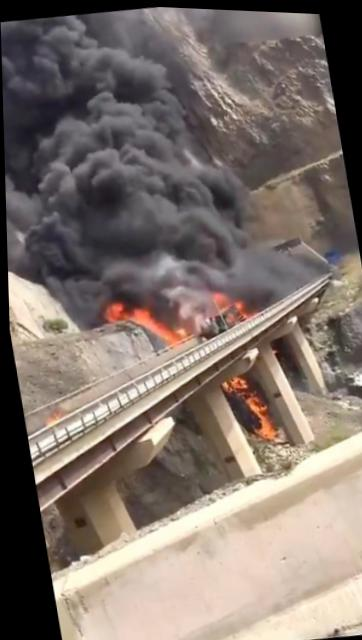fire: (135, 303, 159, 329), (254, 408, 275, 437), (160, 324, 185, 346), (104, 300, 125, 322), (234, 292, 250, 316), (224, 374, 249, 388), (248, 392, 265, 410)
